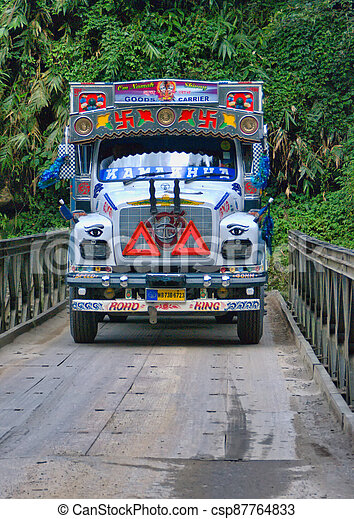truck: (61, 81, 270, 346)
